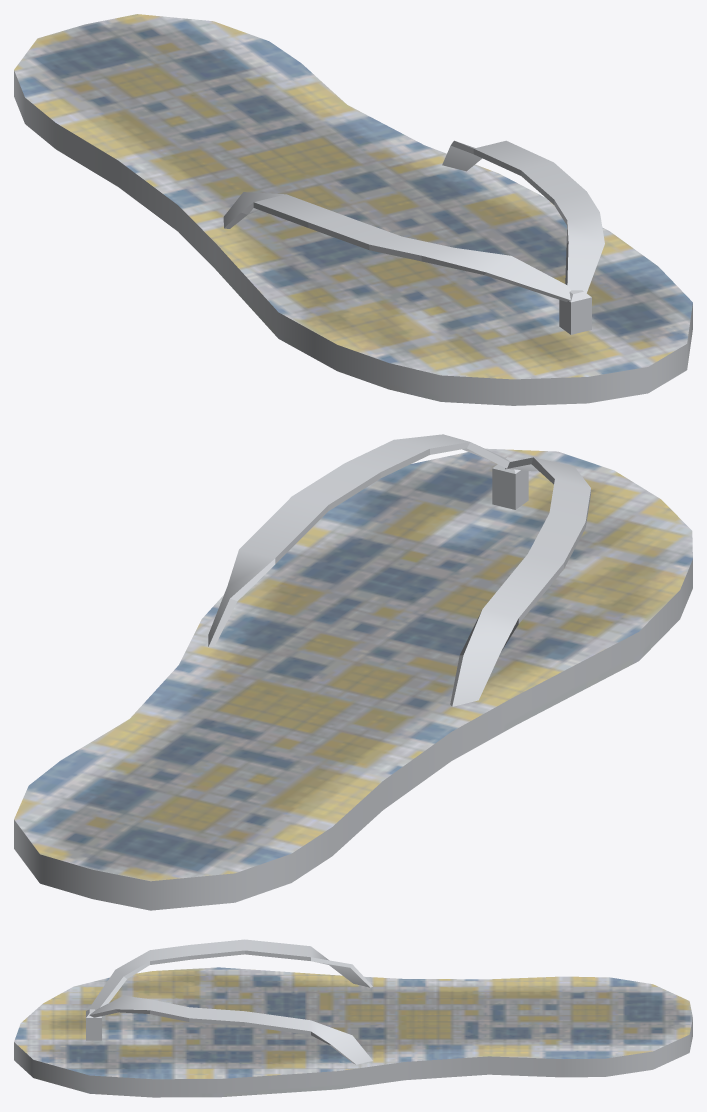
File: p6_beach_sandals_06_right_lod0.glb
The picture shows the model from 3 angles, top to bottom: view 1: azimuth 30°, elevation 25°; view 2: azimuth 150°, elevation 25°; view 3: azimuth 270°, elevation 25°; orthographic projection. The views are drawn at different scales.
Visible parts, largest first — view 1: surf0; view 2: surf0; view 3: surf0.
Boxes of the visible parts, <box> form: surf0: <box>14,14,692,405</box>; surf0: <box>14,434,692,910</box>; surf0: <box>14,939,692,1097</box>.
Size of the model in its own units: 5.16 by 1.44 by 13.24.
